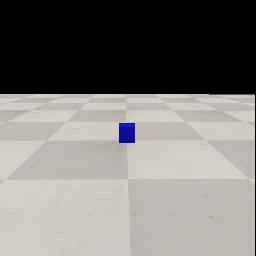box: (119, 123, 135, 143)
